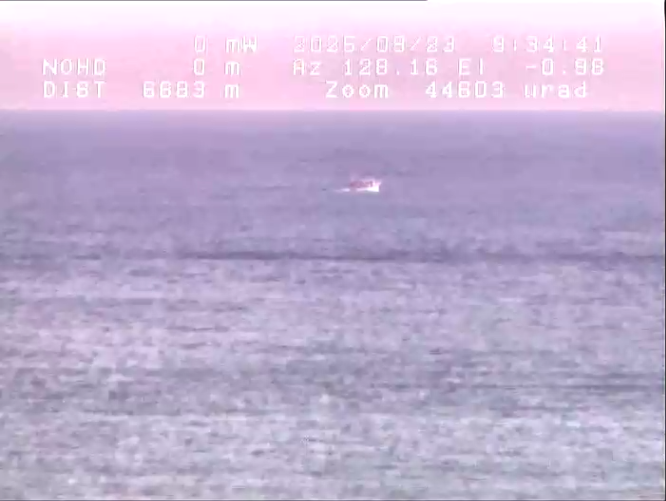TUGS: (324, 172, 395, 192)
